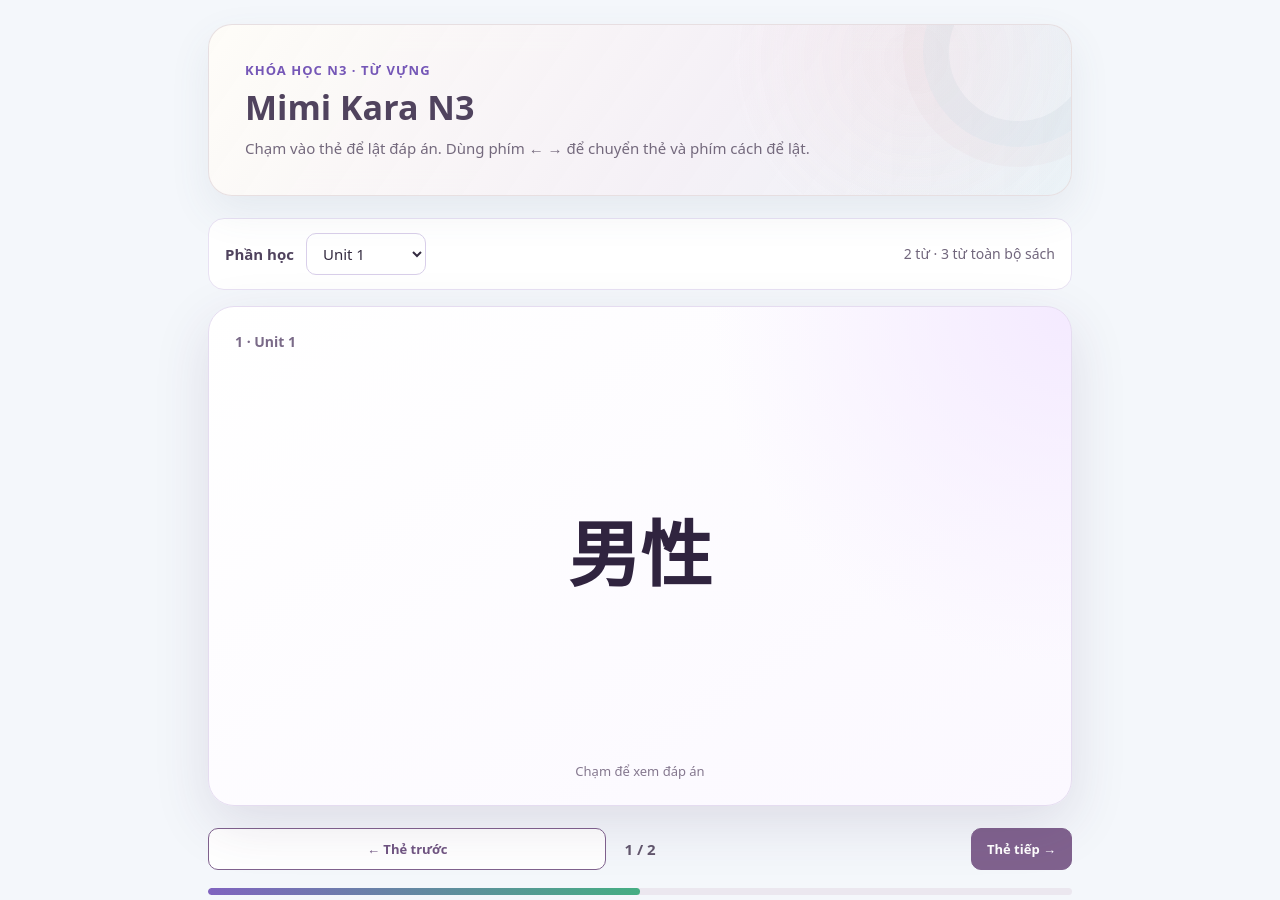
Scenario: moves through cards and resets the answer side
Click the button with class "flip-card" at (640, 556), box x1=208 y1=306 x2=1072 y2=806
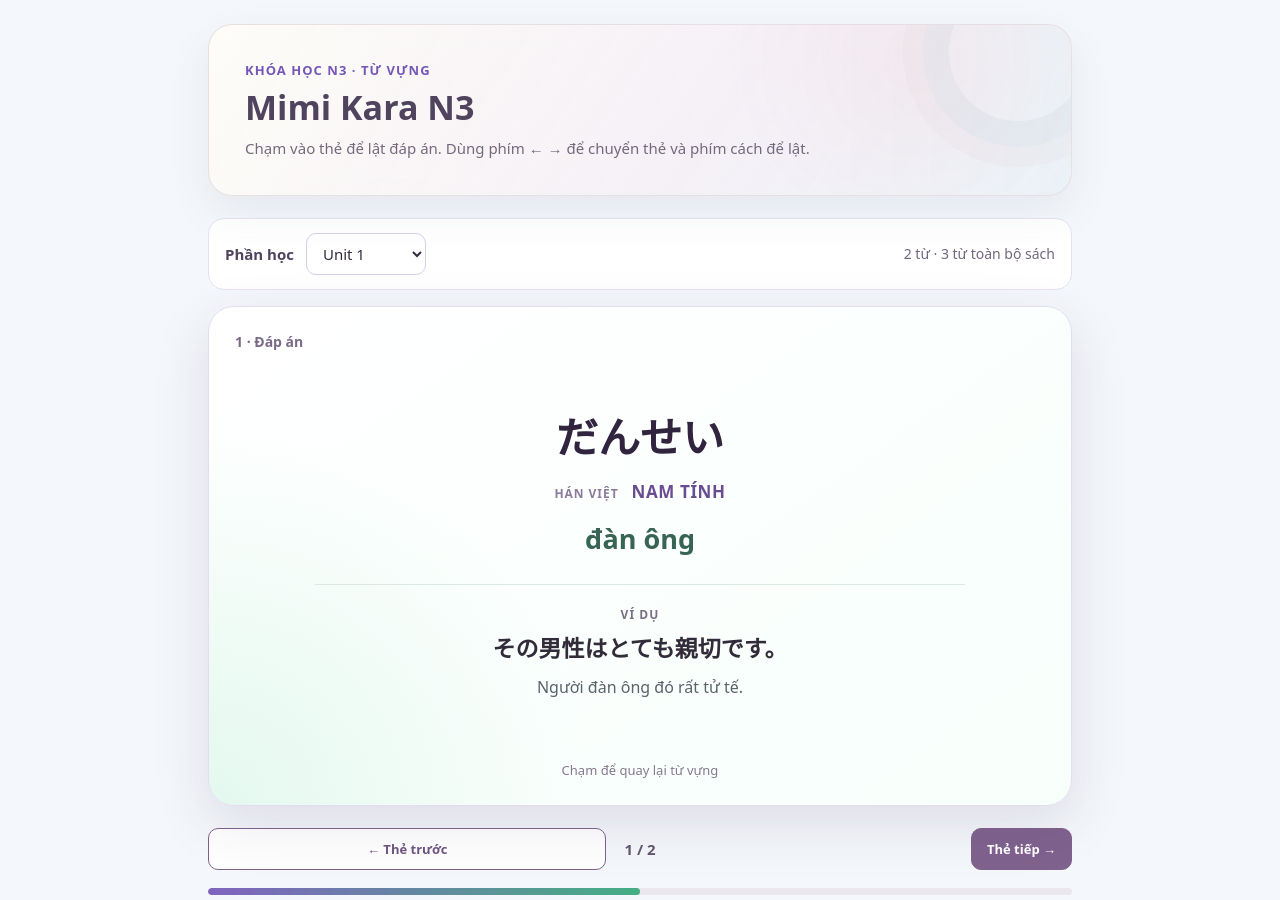
Click the button "Thẻ tiếp →" at (1022, 849), box x1=971 y1=828 x2=1072 y2=870
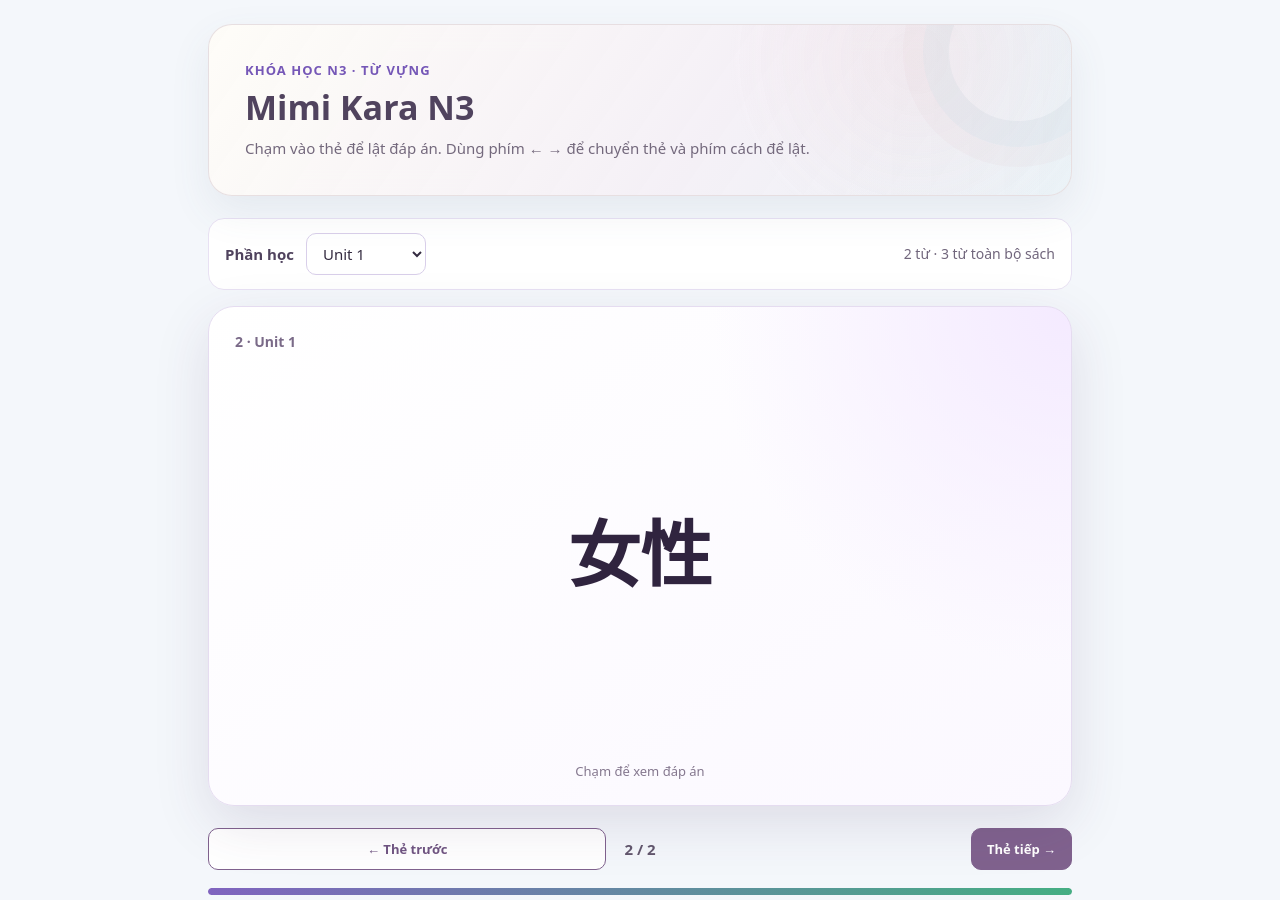
Now the text "女性" is shown, box x1=568 y1=511 x2=712 y2=601
